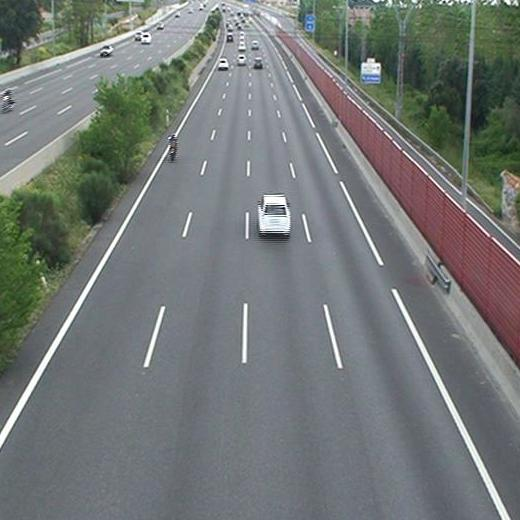car: (257, 195, 290, 234), (236, 54, 247, 64), (251, 40, 261, 51), (253, 58, 263, 68), (218, 59, 228, 69)
motorcycle: (168, 133, 179, 160)
